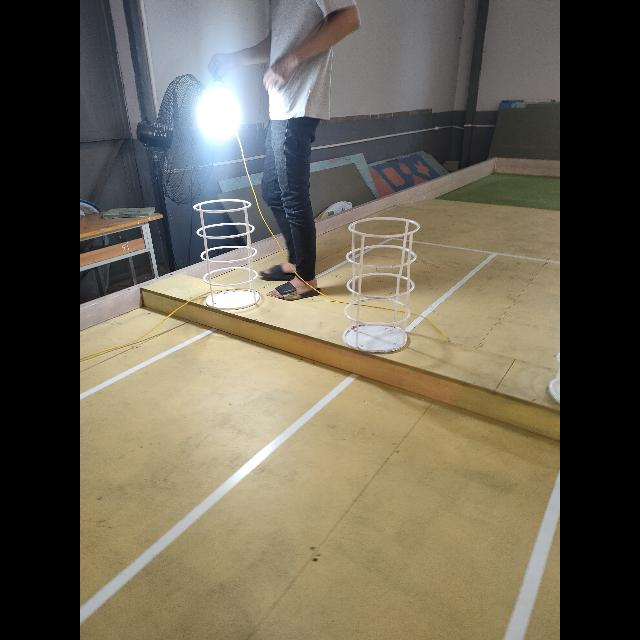S: (342, 216, 422, 354), (192, 198, 262, 310), (545, 346, 560, 408)
